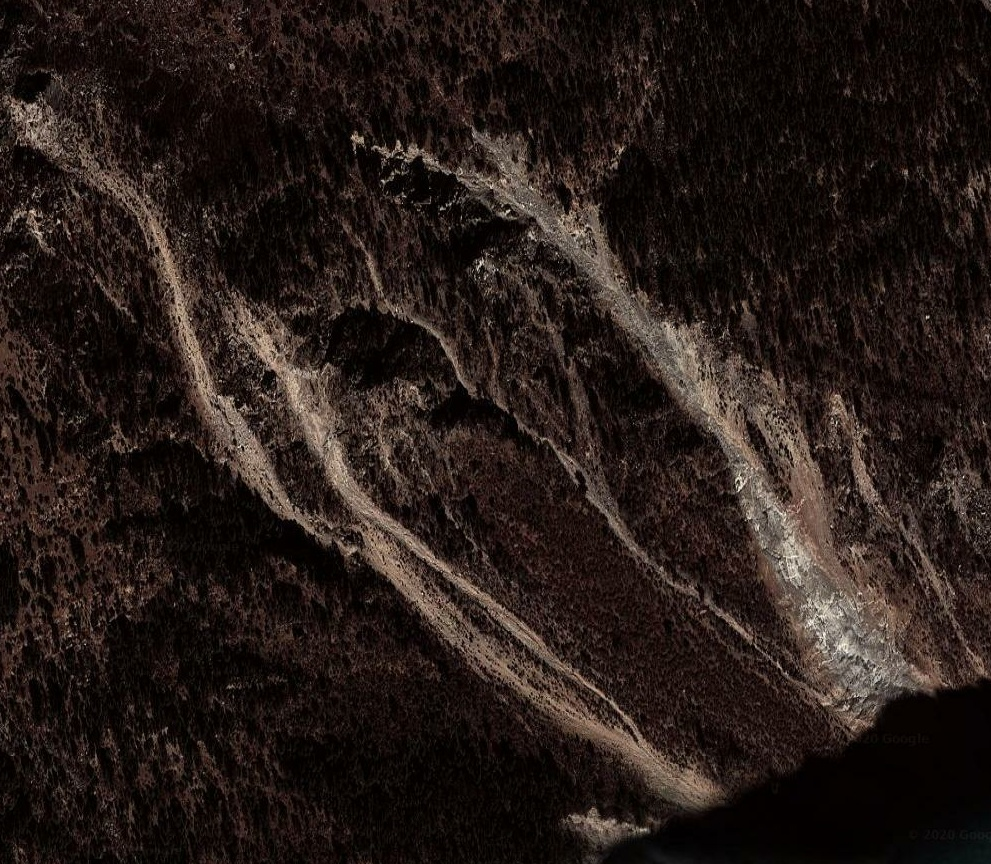slope: (5, 94, 308, 531), (359, 529, 715, 815), (705, 393, 939, 740), (219, 296, 372, 523)
